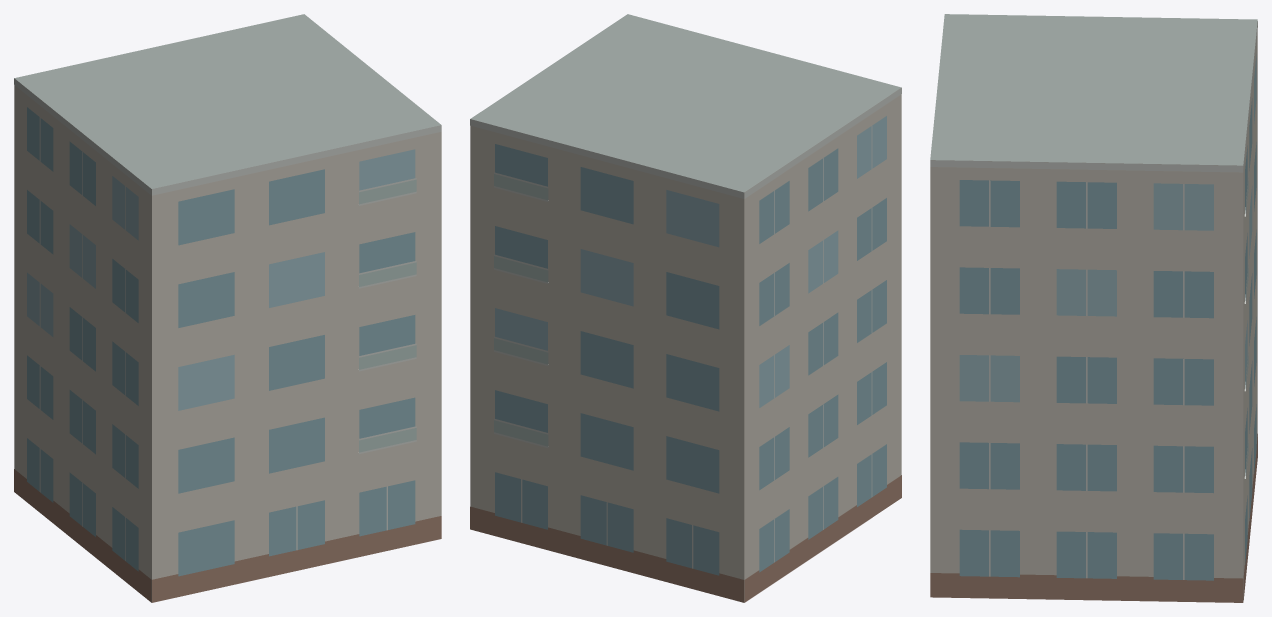
File: residential-09b3c7c6-a4c5-456f-aacb-37a6426b08d0.glb
The picture shows the model from 3 angles, left to right: view 1: azimuth 30°, elevation 25°; view 2: azimuth 150°, elevation 25°; view 3: azimuth 270°, elevation 25°; orthographic projection. The views are drawn at different scales.
Parts seen in each view (by area): view 1: residential-09b3c7c6-a4c5-456f-aacb-37a6426b08d0.tmp; view 2: residential-09b3c7c6-a4c5-456f-aacb-37a6426b08d0.tmp; view 3: residential-09b3c7c6-a4c5-456f-aacb-37a6426b08d0.tmp.
Part boxes in pixels (left/top/right/bottom): residential-09b3c7c6-a4c5-456f-aacb-37a6426b08d0.tmp: left=14, top=14, right=441, bottom=602; residential-09b3c7c6-a4c5-456f-aacb-37a6426b08d0.tmp: left=470, top=14, right=901, bottom=602; residential-09b3c7c6-a4c5-456f-aacb-37a6426b08d0.tmp: left=930, top=14, right=1257, bottom=602.
Size of the model in its own units: 11.34 by 15.25 by 10.36.
